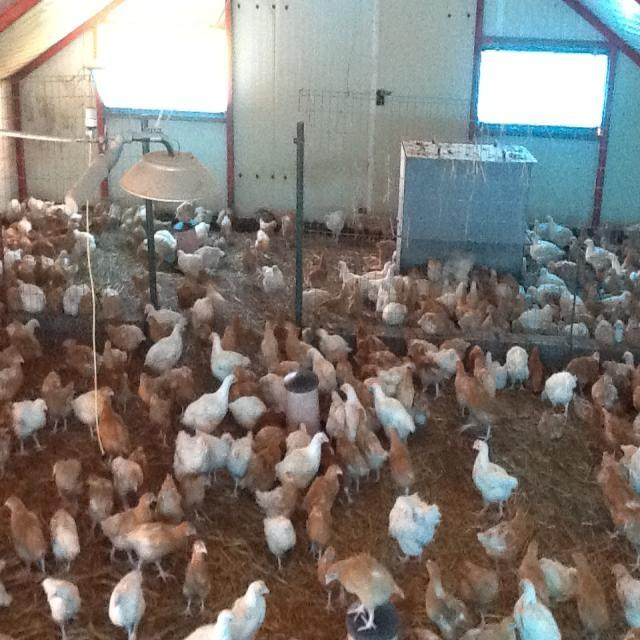poussin: (324, 553, 408, 631), (598, 450, 640, 570), (130, 522, 198, 586), (101, 491, 155, 571), (470, 437, 520, 518), (2, 492, 48, 578), (386, 492, 442, 562), (180, 373, 238, 430), (475, 506, 528, 568), (244, 422, 286, 497), (422, 560, 466, 630), (572, 552, 610, 632), (457, 557, 500, 627), (274, 430, 329, 484), (513, 578, 560, 640), (458, 381, 504, 443), (368, 381, 416, 439), (38, 576, 82, 638), (230, 578, 272, 640), (354, 406, 390, 478), (108, 568, 144, 640), (332, 424, 370, 492), (182, 538, 212, 616), (316, 548, 348, 620), (143, 322, 189, 372), (252, 469, 296, 521), (70, 386, 114, 438), (302, 464, 342, 520), (98, 396, 132, 461), (49, 508, 82, 574), (515, 539, 550, 601), (609, 560, 640, 628), (41, 374, 76, 434), (197, 428, 234, 484), (84, 473, 113, 544), (15, 396, 48, 458), (172, 431, 212, 481), (262, 514, 298, 568), (179, 608, 239, 640), (303, 500, 335, 560), (410, 353, 450, 400), (208, 331, 248, 378), (189, 283, 225, 335), (111, 454, 144, 510), (388, 426, 414, 494), (540, 558, 580, 602), (352, 337, 396, 377), (101, 322, 145, 362), (368, 262, 403, 311), (64, 339, 102, 384), (334, 354, 369, 401), (538, 373, 578, 414), (148, 392, 176, 450), (304, 346, 340, 391), (340, 382, 368, 438), (469, 346, 499, 398), (1, 318, 40, 358), (230, 430, 252, 500), (454, 360, 480, 416), (158, 364, 194, 404), (583, 371, 618, 412), (462, 614, 517, 640), (52, 458, 84, 502), (324, 389, 350, 441), (503, 345, 530, 395), (284, 320, 314, 365), (182, 476, 210, 524), (156, 472, 182, 522), (0, 354, 25, 406), (528, 230, 564, 266), (619, 439, 640, 499), (227, 398, 266, 430), (314, 328, 352, 360), (601, 266, 640, 297), (566, 352, 599, 388), (518, 302, 555, 334), (378, 362, 414, 394), (140, 230, 176, 262), (488, 266, 518, 304), (584, 237, 618, 270), (260, 374, 288, 414), (542, 213, 574, 248), (482, 350, 508, 390), (144, 302, 186, 326), (49, 250, 78, 284), (455, 301, 487, 331), (558, 286, 586, 320), (258, 320, 280, 363), (176, 224, 212, 250), (602, 350, 633, 380), (436, 280, 466, 311), (317, 285, 348, 315), (605, 250, 634, 282), (174, 248, 204, 278), (258, 264, 286, 296), (124, 208, 148, 245), (230, 369, 260, 397), (194, 246, 224, 274), (394, 281, 421, 312), (395, 373, 417, 411), (428, 348, 460, 374), (484, 303, 516, 329), (102, 338, 125, 374), (321, 210, 346, 243), (420, 307, 454, 331), (26, 195, 54, 224), (49, 220, 74, 252), (92, 201, 122, 227), (526, 282, 561, 304), (307, 251, 329, 286), (529, 348, 545, 396), (359, 262, 391, 286), (546, 258, 580, 280), (146, 315, 173, 342), (52, 195, 78, 223), (0, 218, 21, 252), (602, 290, 634, 312), (0, 258, 23, 288), (346, 278, 364, 316), (539, 266, 565, 292), (138, 372, 162, 400), (64, 286, 88, 314), (20, 286, 48, 310), (99, 288, 122, 317), (0, 281, 21, 312), (218, 208, 238, 240), (301, 289, 331, 310), (254, 227, 273, 260), (72, 227, 95, 254), (379, 302, 407, 324), (241, 238, 257, 276), (22, 252, 40, 285), (45, 285, 66, 312), (282, 214, 297, 251), (36, 256, 58, 281), (173, 201, 197, 223), (220, 321, 237, 352), (266, 360, 299, 375), (594, 314, 612, 341), (466, 280, 482, 310), (560, 320, 588, 336), (258, 214, 277, 236), (1, 249, 20, 271), (626, 317, 640, 346), (78, 294, 96, 316), (194, 206, 213, 226), (568, 235, 583, 260), (5, 198, 22, 220), (612, 314, 624, 344), (17, 214, 33, 236), (122, 206, 134, 232)
